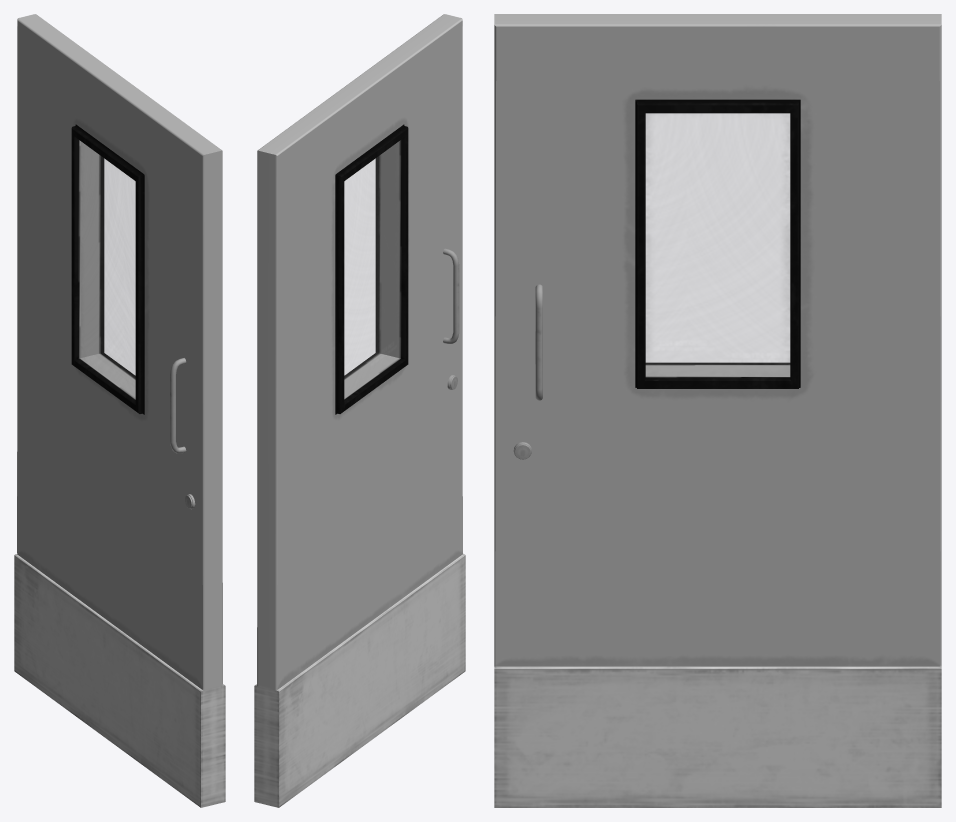
File: MetalDoor.glb
3 views of the same model, side by side, from view 1: azimuth 30°, elevation 25°; view 2: azimuth 150°, elevation 25°; view 3: azimuth 270°, elevation 25° (orthographic). The views are drawn at different scales.
Parts seen in each view (by area): view 1: MetalDoor, MetalDoorGlass, MetalDoorHandle; view 2: MetalDoor, MetalDoorGlass, MetalDoorHandle; view 3: MetalDoor, MetalDoorGlass, MetalDoorHandle.
Part boxes in pixels (x1=…): MetalDoor: x1=14, y1=14, x2=225, y2=807; MetalDoorGlass: x1=81, y1=142, x2=135, y2=396; MetalDoorHandle: x1=170, y1=358, x2=186, y2=453; MetalDoor: x1=254, y1=14, x2=465, y2=807; MetalDoorGlass: x1=344, y1=142, x2=398, y2=397; MetalDoorHandle: x1=443, y1=248, x2=459, y2=343; MetalDoor: x1=494, y1=14, x2=941, y2=807; MetalDoorGlass: x1=646, y1=113, x2=789, y2=375; MetalDoorHandle: x1=535, y1=284, x2=542, y2=400.
Bounding box in the file's own units: 0.1222 × 1.56 × 0.8104.
Materials: 1 (1 with a texture image).
